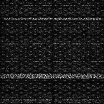lte: (1, 73, 104, 79), (1, 17, 104, 20)
